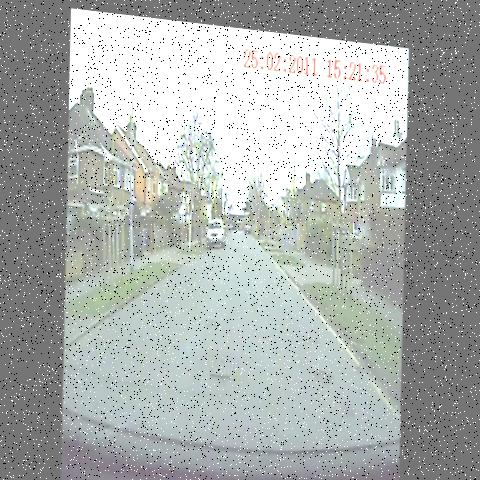pothole: (203, 337, 247, 393), (309, 354, 349, 387), (338, 391, 367, 428), (201, 300, 225, 343), (301, 312, 331, 342), (349, 349, 374, 376)
